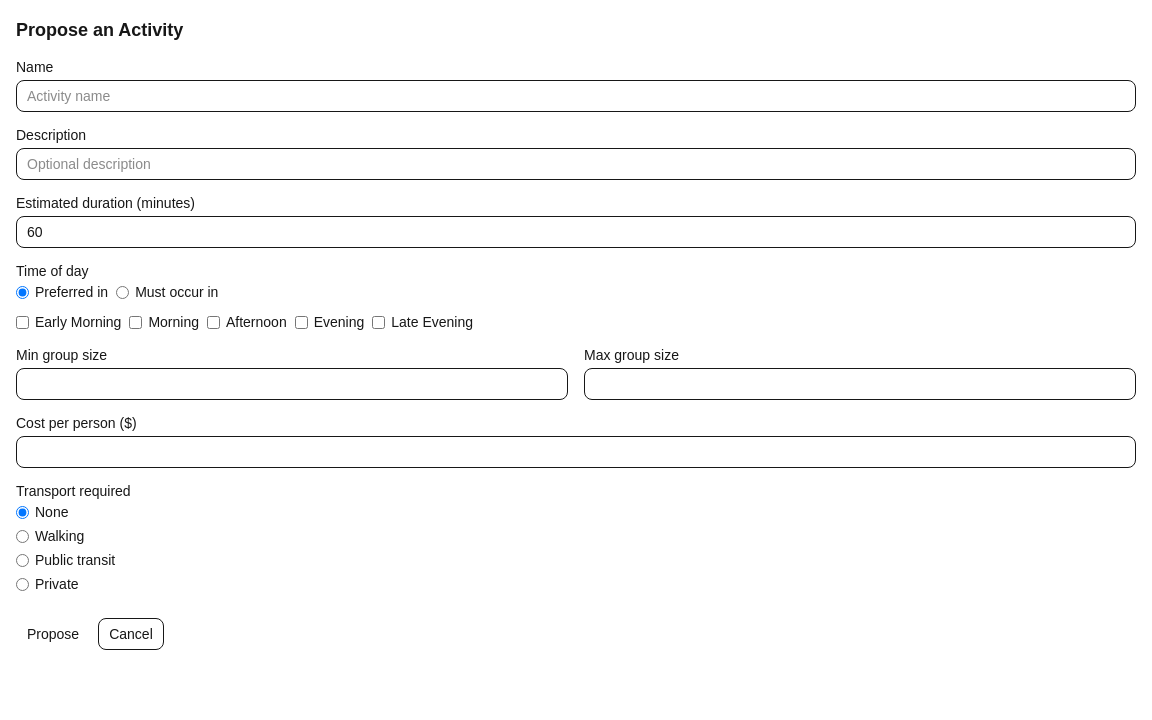
Scenario: ProposeActivityFormView — validation: name required › shows the name required error when submitted without a name
Click the button "Propose". click: (53, 634)
box: x1=16 y1=618 x2=90 y2=650
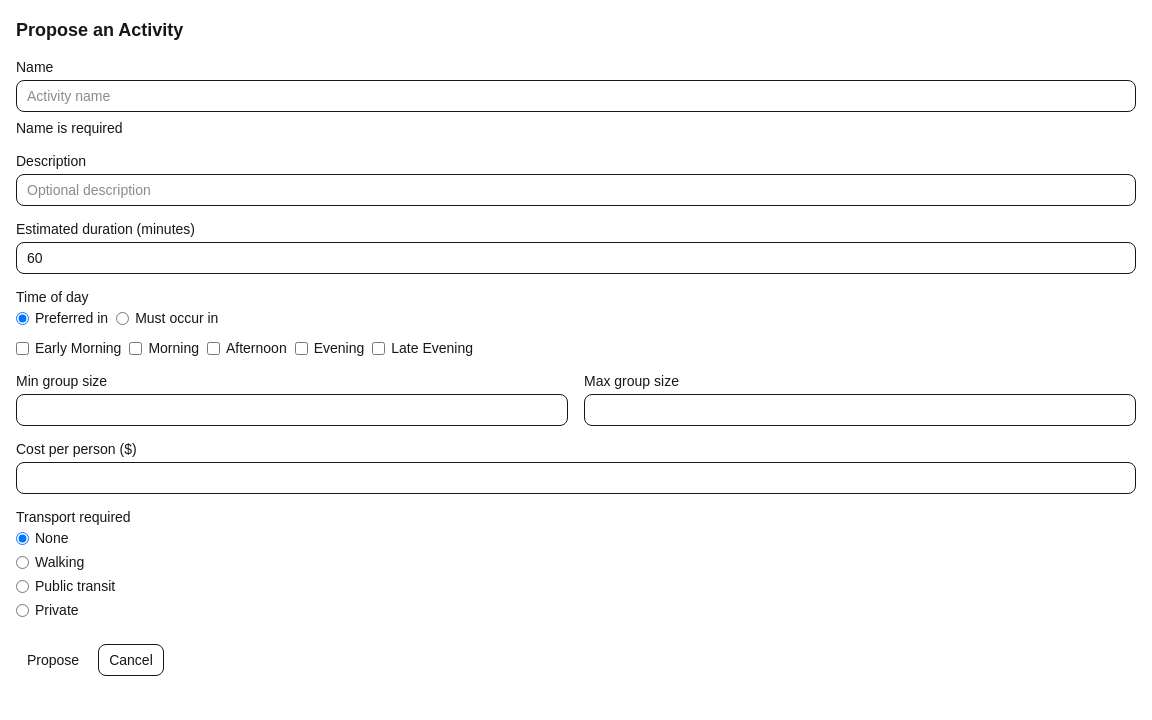
Expected: the text "Name is required" is shown, x1=16 y1=120 x2=123 y2=136
